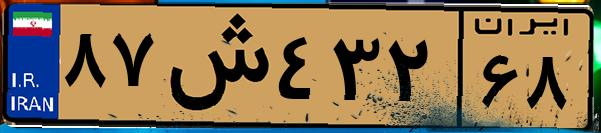2: (385, 28, 445, 110)
3: (330, 28, 385, 110)
4: (270, 28, 330, 110)
6: (475, 38, 525, 113)
7: (110, 28, 158, 98)
8: (57, 26, 110, 100), (525, 38, 570, 115)
ش: (158, 12, 270, 120)
